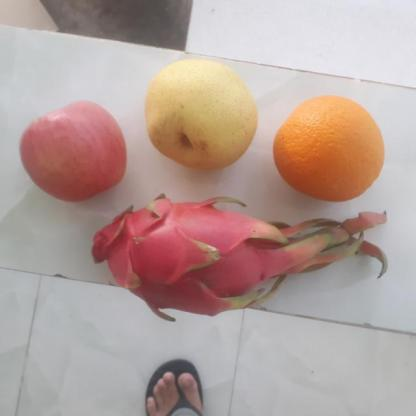apple: (15, 95, 129, 203)
orange: (272, 96, 385, 200)
pear: (139, 59, 261, 172)
pitaya: (89, 196, 287, 317)
